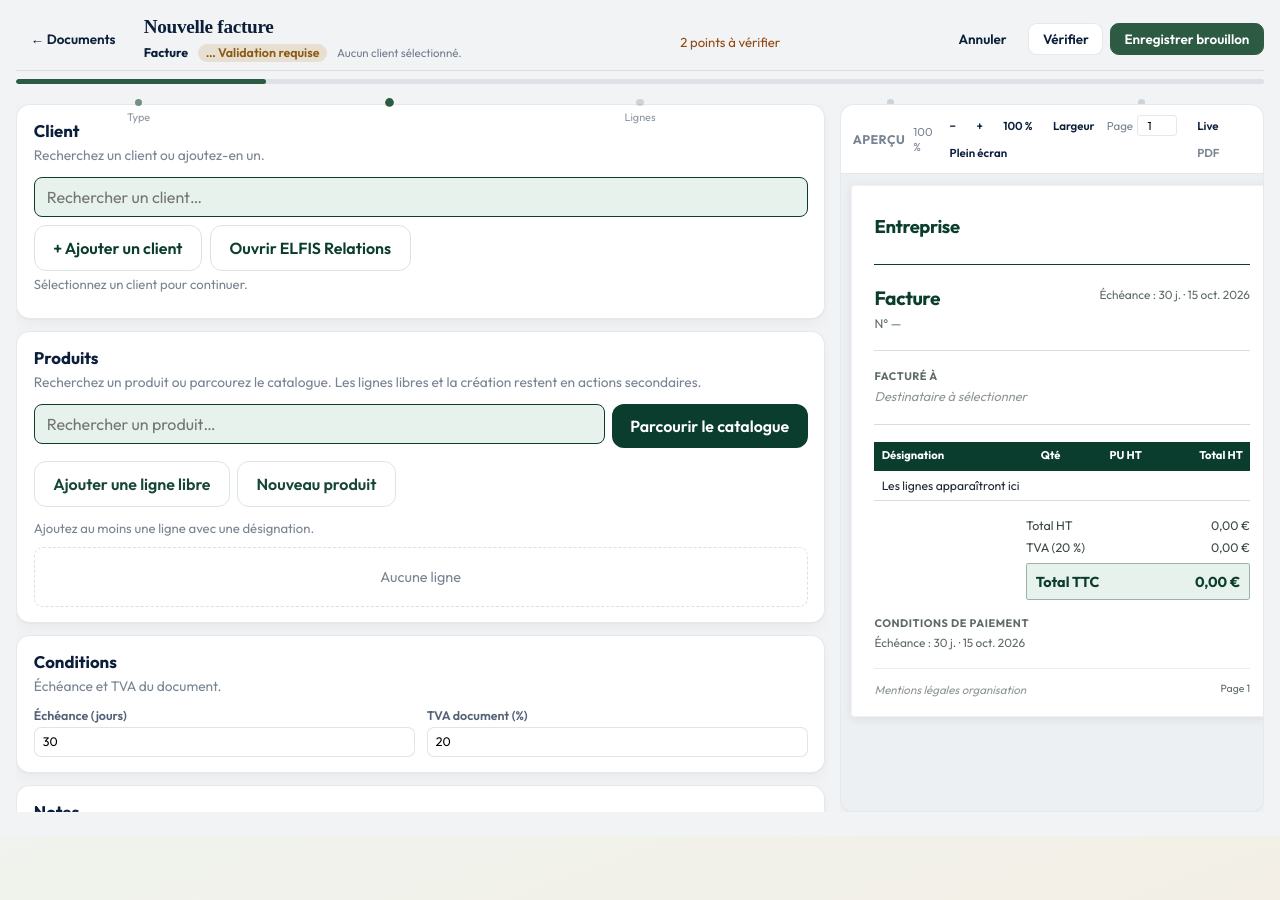
Scenario: UXF21–UXF30 Pickers & lignes › UXF24 — ligne libre sans ouvrir listbox
Click the button "Ajouter une ligne libre": (132, 484) left=34, top=461, right=230, bottom=507
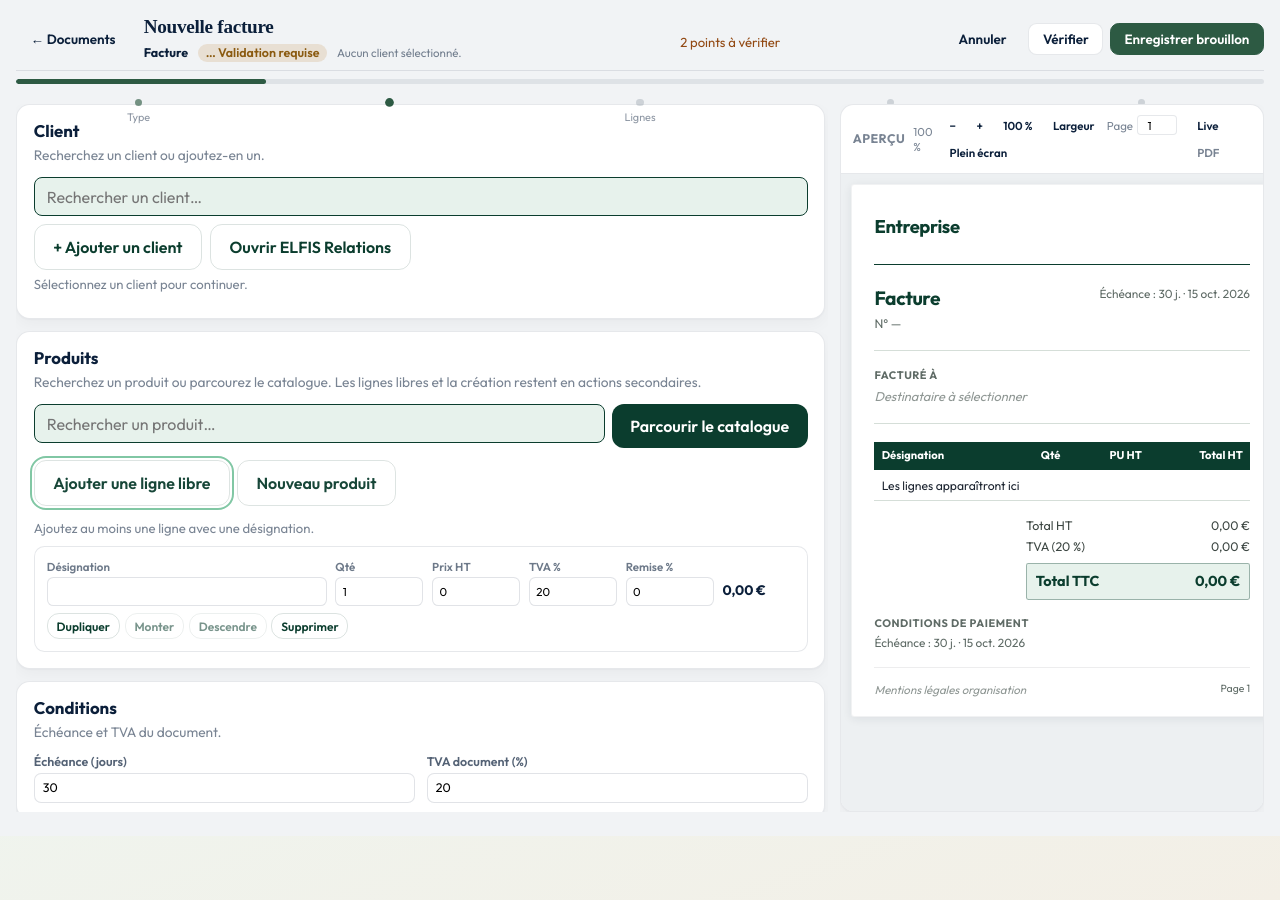
Now the field named "libellé ligne 1" is shown, box left=47, top=577, right=326, bottom=606
